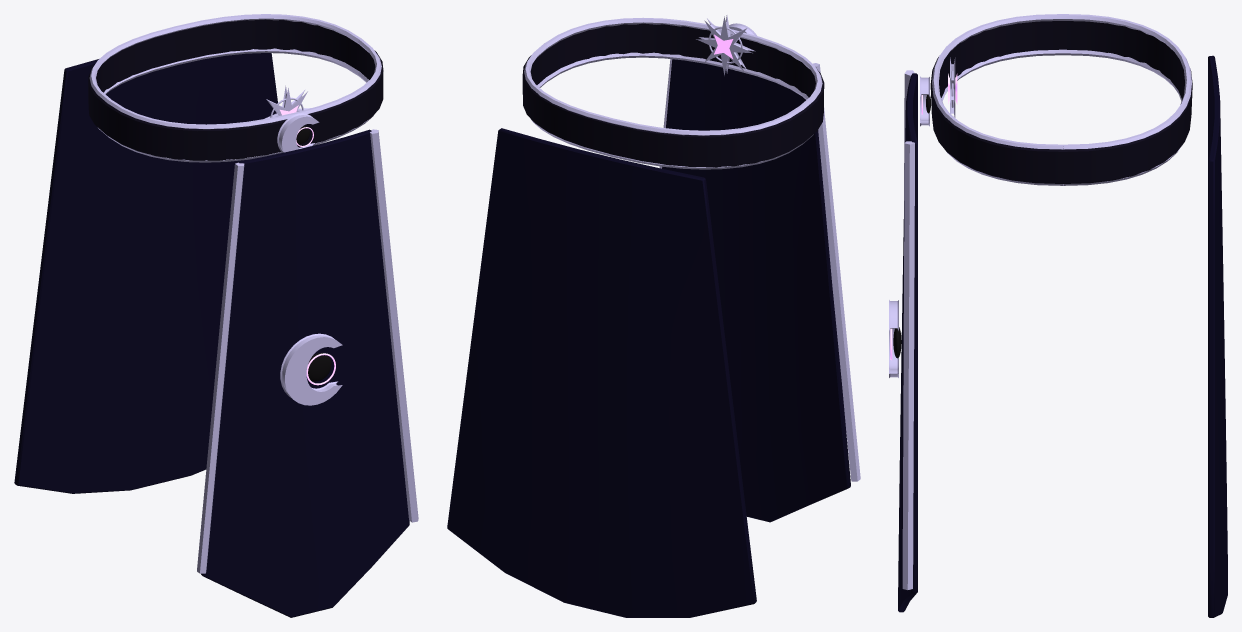
The model's file is asc_voidweaver_inner.glb.
3 views of the same model, side by side, from view 1: azimuth 30°, elevation 25°; view 2: azimuth 150°, elevation 25°; view 3: azimuth 270°, elevation 25° (orthographic). The views are drawn at different scales.
Parts seen in each view (by area): view 1: asc_voidweaver_inner; view 2: asc_voidweaver_inner; view 3: asc_voidweaver_inner.
Part boxes in pixels (x1,y1,x2,y2): asc_voidweaver_inner: [14, 14, 418, 617]; asc_voidweaver_inner: [447, 15, 860, 617]; asc_voidweaver_inner: [889, 14, 1227, 617].
Bounding box in the file's own units: 0.5401 × 0.8701 × 0.4912.
